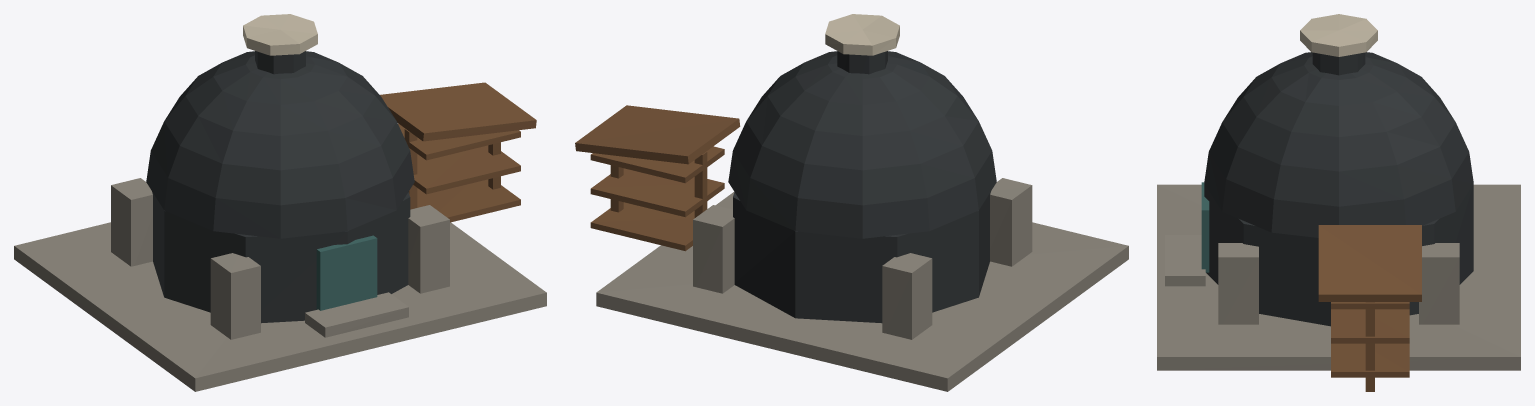
Rendered from charcoal-kiln.source.glb.
The picture shows the model from 3 angles, left to right: view 1: azimuth 30°, elevation 25°; view 2: azimuth 150°, elevation 25°; view 3: azimuth 270°, elevation 25°; orthographic projection.
Parts seen in each view (by area): view 1: charcoal-kiln-faceted-kiln-dome-mesh, charcoal-kiln-grounded-ash-apron-mesh, charcoal-kiln-low-masonry-barrel-mesh, charcoal-kiln-covered-rack-roof-mesh, charcoal-kiln-pale-buttress--1.75-1.6-mesh, charcoal-kiln-sealed-square-loading-door-mesh, charcoal-kiln-pale-buttress-1.75-1.6-mesh, charcoal-kiln-pale-buttress--1.75--1.6-mesh, charcoal-kiln-empty-rack-shelf-1.05-mesh, charcoal-kiln-narrow-inspection-ledge-mesh, charcoal-kiln-cream-chimney-cap-mesh, charcoal-kiln-empty-rack-shelf-0.45-mesh (+3 smaller); view 2: charcoal-kiln-faceted-kiln-dome-mesh, charcoal-kiln-grounded-ash-apron-mesh, charcoal-kiln-low-masonry-barrel-mesh, charcoal-kiln-covered-rack-roof-mesh, charcoal-kiln-pale-buttress--1.75--1.6-mesh, charcoal-kiln-empty-rack-shelf-1.05-mesh, charcoal-kiln-pale-buttress--1.75-1.6-mesh, charcoal-kiln-pale-buttress-1.75--1.6-mesh, charcoal-kiln-empty-rack-shelf-0.45-mesh, charcoal-kiln-cream-chimney-cap-mesh, charcoal-kiln-empty-rack-shelf-1.65-mesh, charcoal-kiln-short-charcoal-chimney-mesh (+1 smaller); view 3: charcoal-kiln-faceted-kiln-dome-mesh, charcoal-kiln-grounded-ash-apron-mesh, charcoal-kiln-low-masonry-barrel-mesh, charcoal-kiln-covered-rack-roof-mesh, charcoal-kiln-pale-buttress-1.75-1.6-mesh, charcoal-kiln-pale-buttress-1.75--1.6-mesh, charcoal-kiln-cream-chimney-cap-mesh, charcoal-kiln-empty-rack-shelf-0.45-mesh, charcoal-kiln-empty-rack-shelf-1.05-mesh, charcoal-kiln-narrow-inspection-ledge-mesh, charcoal-kiln-short-charcoal-chimney-mesh, charcoal-kiln-sealed-square-loading-door-mesh (+2 smaller).
Part boxes in pixels (x1,y1,x2,y2): charcoal-kiln-faceted-kiln-dome-mesh: (146, 51, 414, 238); charcoal-kiln-grounded-ash-apron-mesh: (14, 222, 546, 391); charcoal-kiln-low-masonry-barrel-mesh: (152, 191, 410, 323); charcoal-kiln-covered-rack-roof-mesh: (380, 82, 536, 141); charcoal-kiln-pale-buttress--1.75-1.6-mesh: (210, 253, 260, 339); charcoal-kiln-sealed-square-loading-door-mesh: (316, 235, 377, 310); charcoal-kiln-pale-buttress-1.75-1.6-mesh: (408, 205, 449, 293); charcoal-kiln-pale-buttress--1.75--1.6-mesh: (111, 178, 152, 266); charcoal-kiln-empty-rack-shelf-1.05-mesh: (413, 145, 520, 194); charcoal-kiln-narrow-inspection-ledge-mesh: (305, 292, 408, 337); charcoal-kiln-cream-chimney-cap-mesh: (243, 14, 317, 55); charcoal-kiln-empty-rack-shelf-0.45-mesh: (417, 179, 520, 222); charcoal-kiln-faceted-kiln-dome-mesh: (728, 51, 996, 238); charcoal-kiln-grounded-ash-apron-mesh: (596, 191, 1128, 391); charcoal-kiln-low-masonry-barrel-mesh: (733, 192, 990, 323); charcoal-kiln-covered-rack-roof-mesh: (575, 105, 740, 164); charcoal-kiln-pale-buttress--1.75--1.6-mesh: (882, 253, 932, 339); charcoal-kiln-empty-rack-shelf-1.05-mesh: (590, 168, 724, 217); charcoal-kiln-pale-buttress--1.75-1.6-mesh: (990, 178, 1032, 266); charcoal-kiln-pale-buttress-1.75--1.6-mesh: (693, 205, 734, 293); charcoal-kiln-empty-rack-shelf-0.45-mesh: (590, 202, 694, 251); charcoal-kiln-cream-chimney-cap-mesh: (825, 14, 899, 55); charcoal-kiln-empty-rack-shelf-1.65-mesh: (590, 146, 724, 183); charcoal-kiln-short-charcoal-chimney-mesh: (837, 51, 887, 74); charcoal-kiln-faceted-kiln-dome-mesh: (1204, 52, 1473, 237); charcoal-kiln-grounded-ash-apron-mesh: (1157, 184, 1520, 370); charcoal-kiln-low-masonry-barrel-mesh: (1204, 184, 1473, 326); charcoal-kiln-covered-rack-roof-mesh: (1318, 225, 1421, 301); charcoal-kiln-pale-buttress-1.75-1.6-mesh: (1218, 243, 1258, 324); charcoal-kiln-pale-buttress-1.75--1.6-mesh: (1419, 243, 1459, 324); charcoal-kiln-cream-chimney-cap-mesh: (1300, 14, 1377, 56); charcoal-kiln-empty-rack-shelf-0.45-mesh: (1331, 343, 1409, 377); charcoal-kiln-empty-rack-shelf-1.05-mesh: (1331, 309, 1409, 343); charcoal-kiln-narrow-inspection-ledge-mesh: (1165, 235, 1205, 286); charcoal-kiln-short-charcoal-chimney-mesh: (1312, 52, 1365, 75); charcoal-kiln-sealed-square-loading-door-mesh: (1201, 182, 1209, 272).
Bounding box in the file's own units: 7.8 × 4.47 × 5.8.
